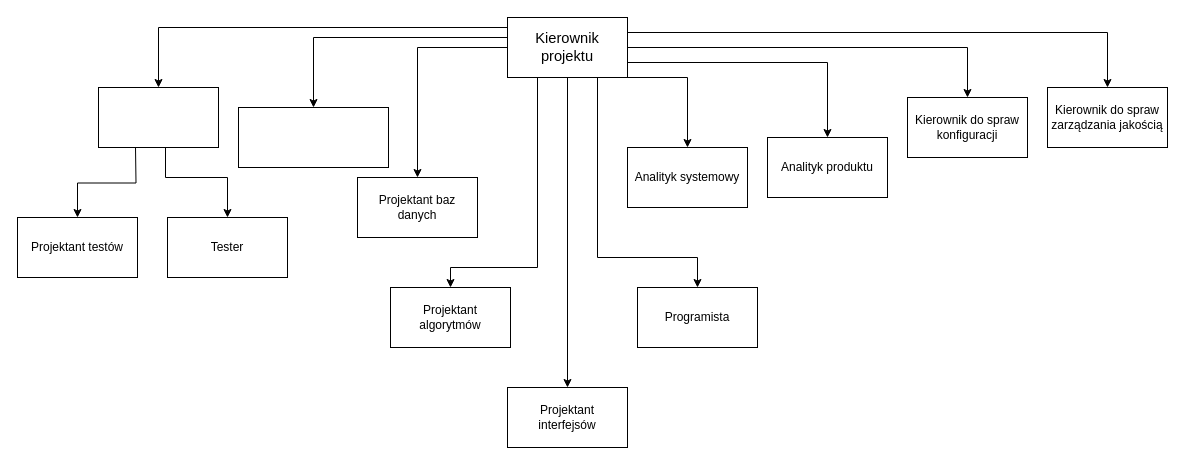
This 1185x465 diagram has some shape labels left out. The shapes that lost their labels are listed below. From the top down, each one's centre as x and y in pixels, then its label:
(x=158, y=117): Kierownik do spraw testów
(x=313, y=137): Kierownik do spraw zarządzania ryzykiem
